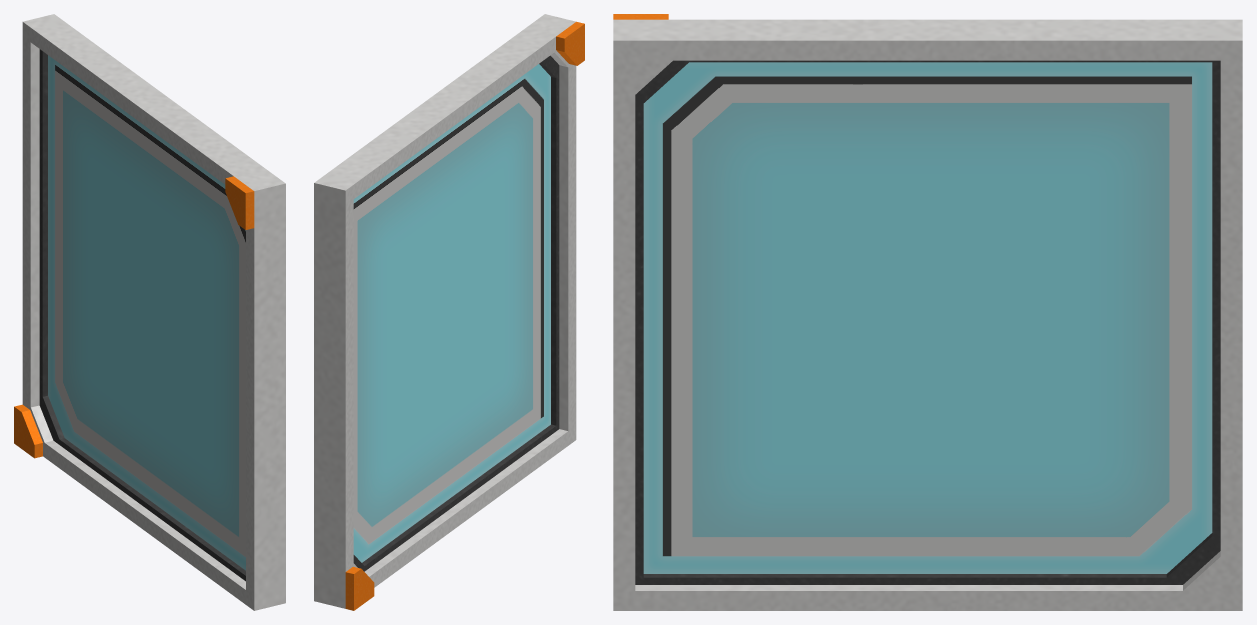
File: Wall_Windowed_1_LOD0.fbx
The picture shows the model from 3 angles, left to right: view 1: azimuth 30°, elevation 25°; view 2: azimuth 150°, elevation 25°; view 3: azimuth 270°, elevation 25°; orthographic projection. The views are drawn at different scales.
Parts seen in each view (by area): view 1: Wall_Windowed_1_LOD0; view 2: Wall_Windowed_1_LOD0; view 3: Wall_Windowed_1_LOD0.
Boxes of the visible parts, box(x1,y1,x2,y2) form: Wall_Windowed_1_LOD0: box(14, 14, 285, 610); Wall_Windowed_1_LOD0: box(314, 14, 584, 610); Wall_Windowed_1_LOD0: box(613, 14, 1242, 610).
Size of the model in its own units: 20 by 200 by 200.
